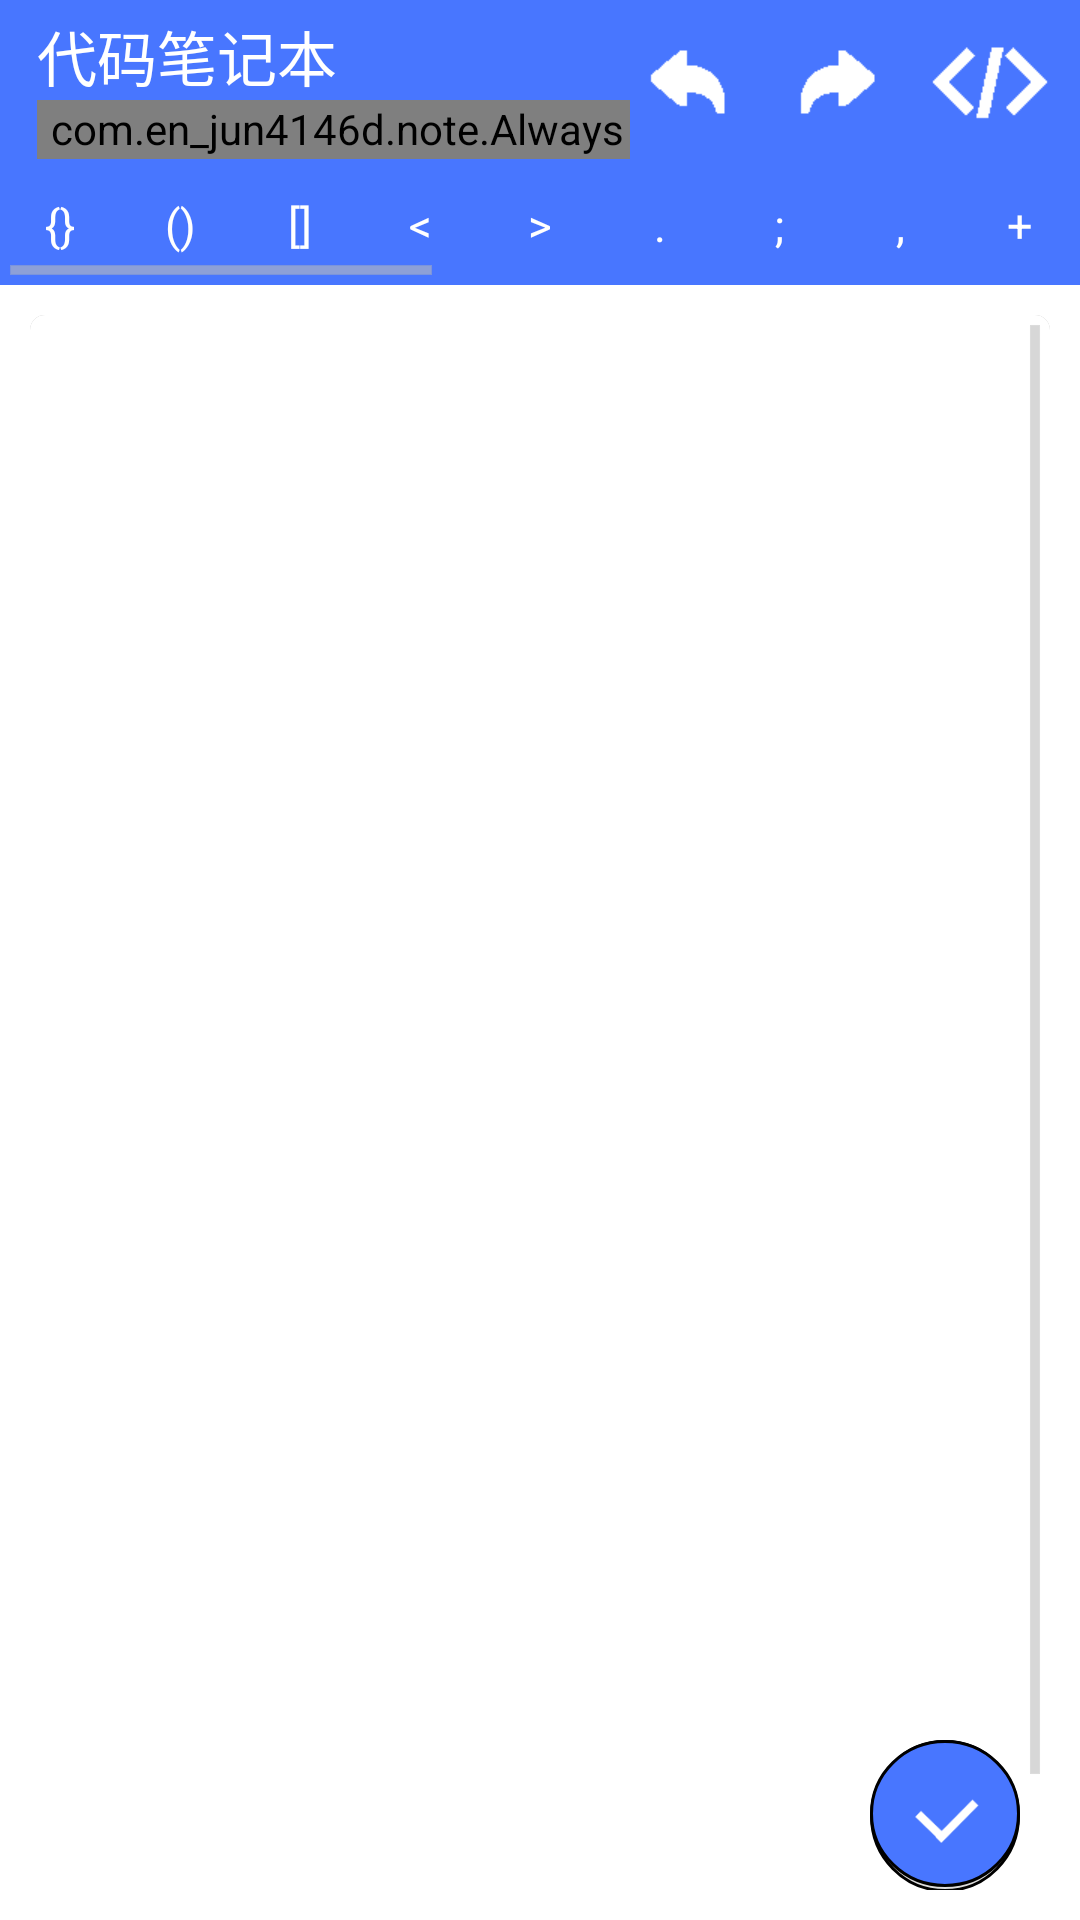

Screen size 1080x1920. Icon name, then its box in pixels as (x1, y1, x2, y2):
code: (932, 47, 1048, 119)
finish: (870, 1740, 1020, 1890)
redo: (800, 50, 875, 114)
undo: (650, 50, 725, 114)
